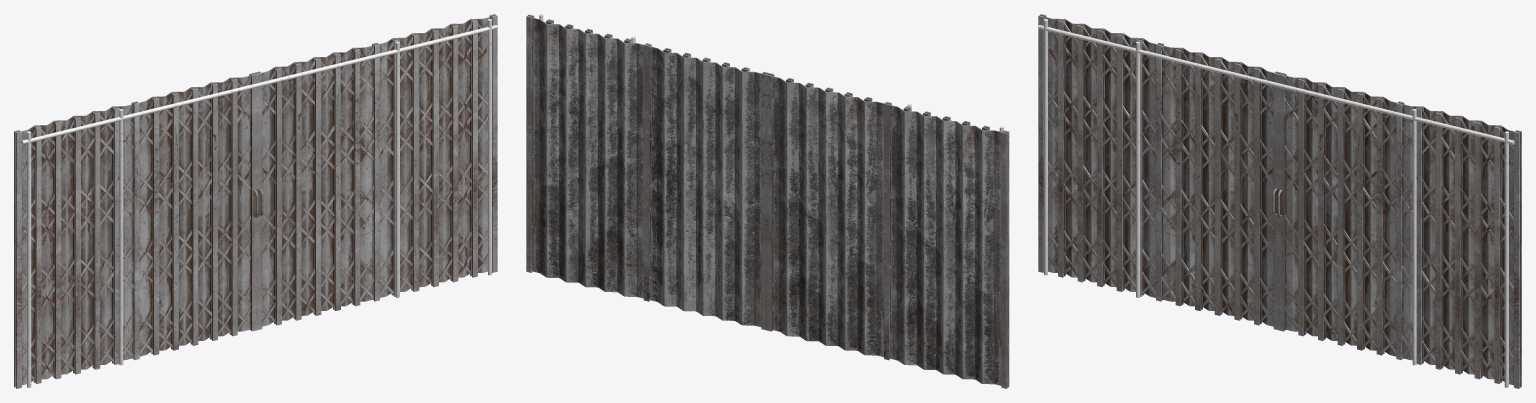
The model's file is SM_Folding_Doors_Long_Closed.glb.
The picture shows the model from 3 angles, left to right: view 1: azimuth 30°, elevation 25°; view 2: azimuth 150°, elevation 25°; view 3: azimuth 330°, elevation 25°; orthographic projection.
Visible parts, largest first — view 1: SM_Folding_Doors_Long_Closed; view 2: SM_Folding_Doors_Long_Closed; view 3: SM_Folding_Doors_Long_Closed.
Boxes of the visible parts, bbox=[...] form: SM_Folding_Doors_Long_Closed: bbox=[14, 14, 497, 388]; SM_Folding_Doors_Long_Closed: bbox=[526, 14, 1009, 388]; SM_Folding_Doors_Long_Closed: bbox=[1038, 14, 1521, 388].
Size of the model in its own units: 5.22 by 2.65 by 0.1509.
Materials: 2 (2 with a texture image).
